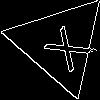X: (34, 18, 93, 74)
